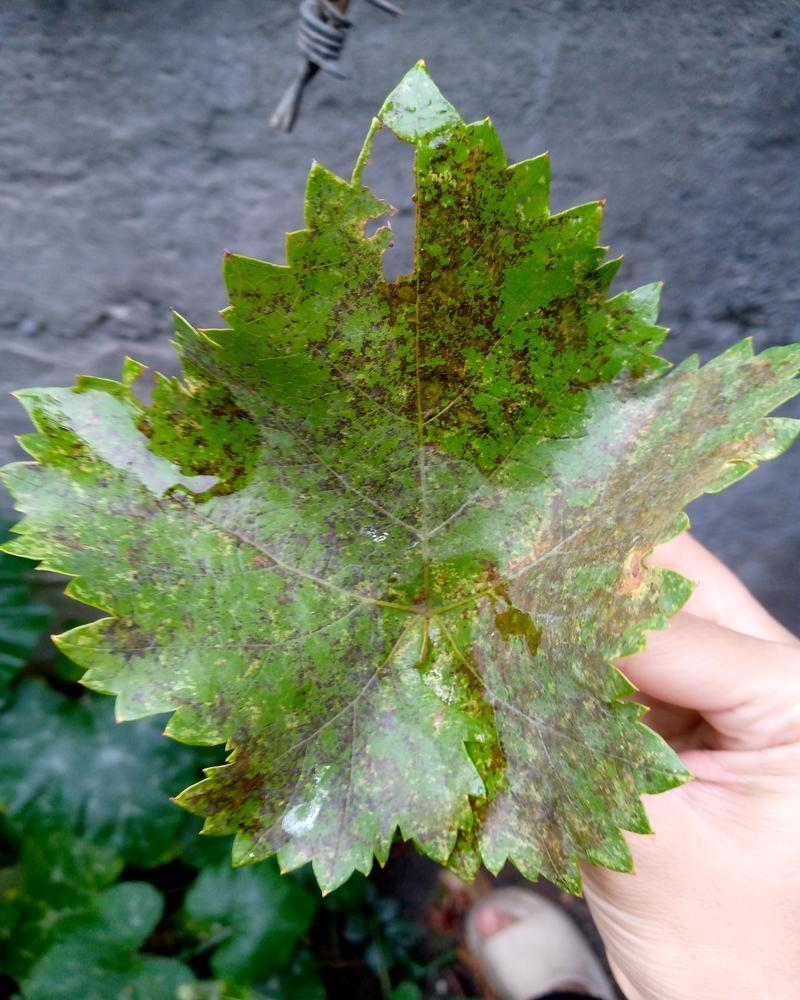Powdery-Mildew: (505, 357, 781, 660), (215, 612, 468, 890), (452, 626, 641, 871), (415, 157, 547, 415), (163, 487, 351, 633), (61, 381, 250, 515), (306, 276, 423, 443), (103, 608, 210, 719), (11, 447, 105, 542), (383, 63, 446, 126), (536, 285, 599, 348), (439, 468, 502, 530)
